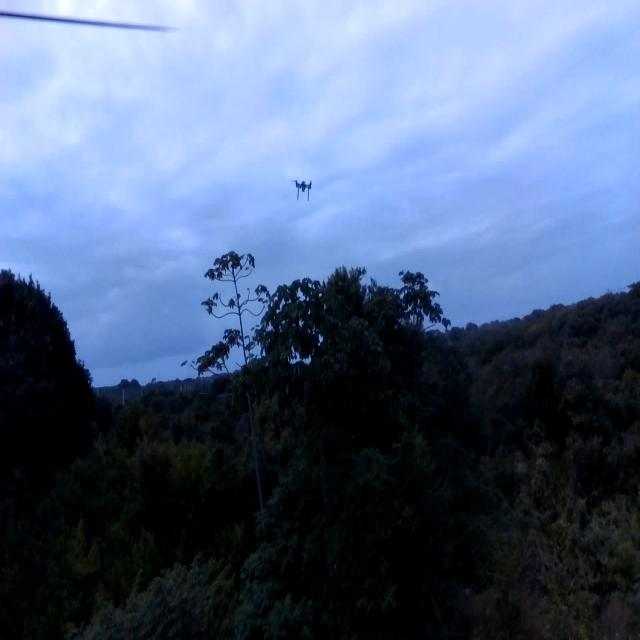-uav-: (288, 168, 324, 215)
